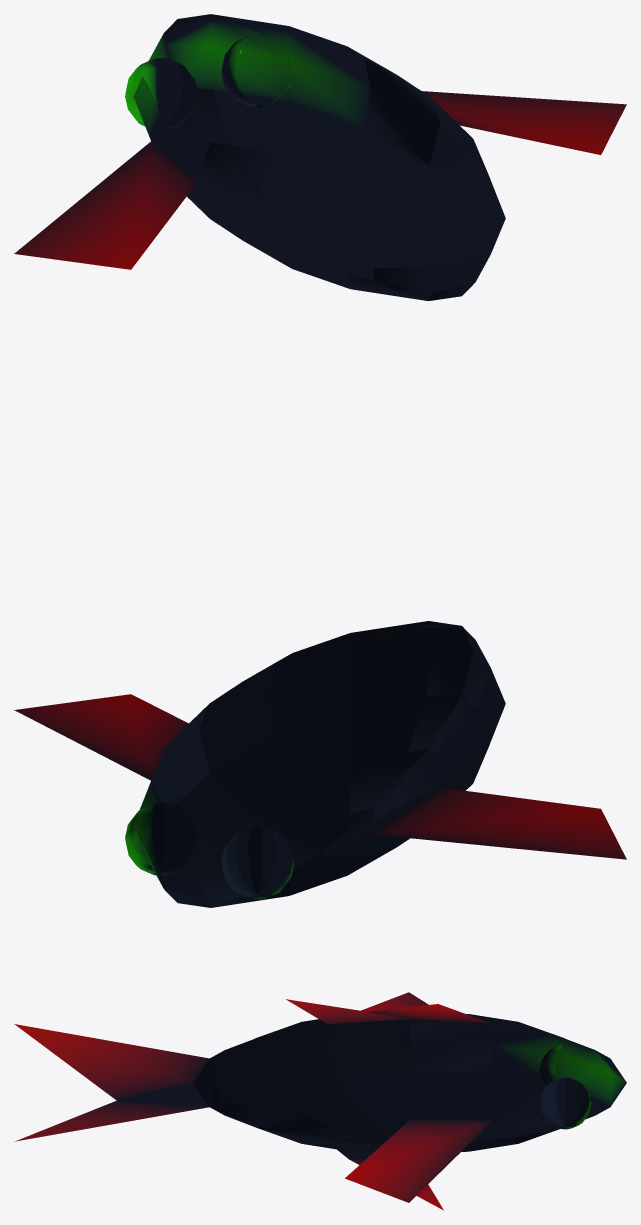
File: night.glb
3 views of the same model, one above another, from view 1: azimuth 30°, elevation 25°; view 2: azimuth 150°, elevation 25°; view 3: azimuth 270°, elevation 25° (orthographic). The views are drawn at different scales.
Parts seen in each view (by area): view 1: Nightfreak; view 2: Nightfreak; view 3: Nightfreak.
Boxes of the visible parts, bbox=[...] form: Nightfreak: bbox=[14, 14, 626, 300]; Nightfreak: bbox=[14, 621, 626, 907]; Nightfreak: bbox=[14, 992, 626, 1210].
Bounding box in the file's own units: 1.34 × 0.6291 × 1.65.
